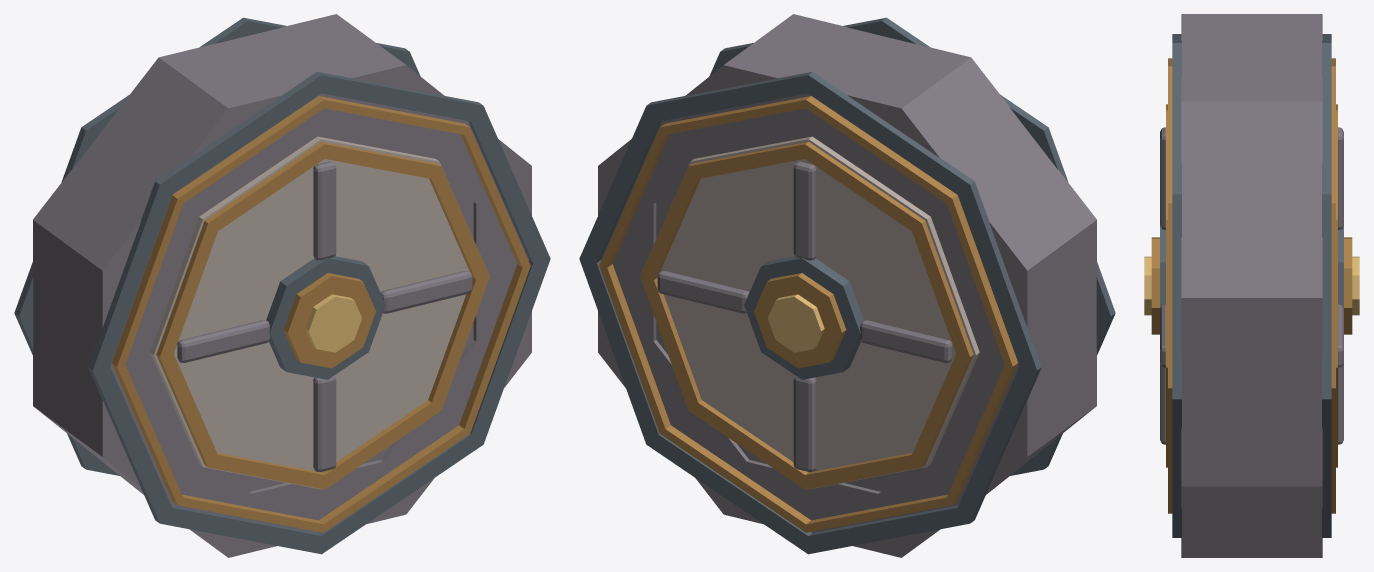
The model's file is Wheel_Refined_Low.fbx.
3 renders of one model, left to right at view 1: azimuth 30°, elevation 25°; view 2: azimuth 150°, elevation 25°; view 3: azimuth 270°, elevation 25°, orthographic.
Parts seen in each view (by area): view 1: Wheel_Refined_Low; view 2: Wheel_Refined_Low; view 3: Wheel_Refined_Low.
Boxes of the visible parts, box(x1,y1,x2,y2) form: Wheel_Refined_Low: box(14, 14, 550, 557); Wheel_Refined_Low: box(579, 14, 1115, 557); Wheel_Refined_Low: box(1144, 14, 1359, 557).
Bounding box in the file's own units: 197 × 79 × 197.
